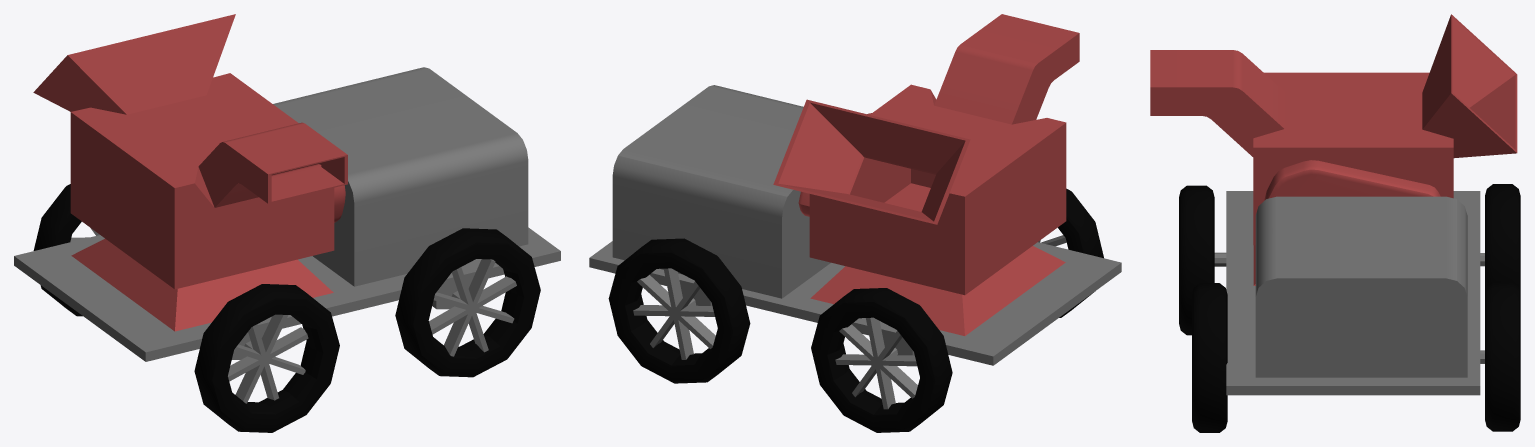
Rendered from Threshing_vechile.fbx.
3 renders of one model, left to right at view 1: azimuth 30°, elevation 25°; view 2: azimuth 150°, elevation 25°; view 3: azimuth 270°, elevation 25°, orthographic. The views are drawn at different scales.
Visible parts, largest first — view 1: pCube102, pCube104, pCube103, pPipe6, pPipe5, pPipe4; view 2: pCube102, pCube104, pCube103, pPipe3, pPipe4, pPipe6; view 3: pCube102, pCube104, pCube103, pPipe3, pPipe5, pPipe6, pPipe4.
Boxes of the visible parts, left/top/right/bottom form: pCube102: left=33, top=14, right=347, bottom=331; pCube104: left=273, top=67, right=528, bottom=286; pCube103: left=14, top=227, right=560, bottom=403; pPipe6: left=194, top=284, right=339, bottom=432; pPipe5: left=395, top=228, right=540, bottom=377; pPipe4: left=33, top=184, right=82, bottom=316; pCube102: left=773, top=14, right=1079, bottom=335; pCube104: left=612, top=85, right=830, bottom=298; pCube103: left=589, top=235, right=1121, bottom=409; pPipe3: left=608, top=238, right=750, bottom=383; pPipe4: left=811, top=288, right=952, bottom=432; pPipe6: left=1058, top=188, right=1103, bottom=317; pCube102: left=1150, top=14, right=1517, bottom=285; pCube104: left=1255, top=196, right=1467, bottom=377; pCube103: left=1214, top=191, right=1484, bottom=395; pPipe3: left=1485, top=281, right=1520, bottom=431; pPipe5: left=1192, top=283, right=1227, bottom=432; pPipe6: left=1179, top=185, right=1214, bottom=335; pPipe4: left=1485, top=184, right=1520, bottom=292.
Size of the model in its own units: 298 by 202 by 239.
